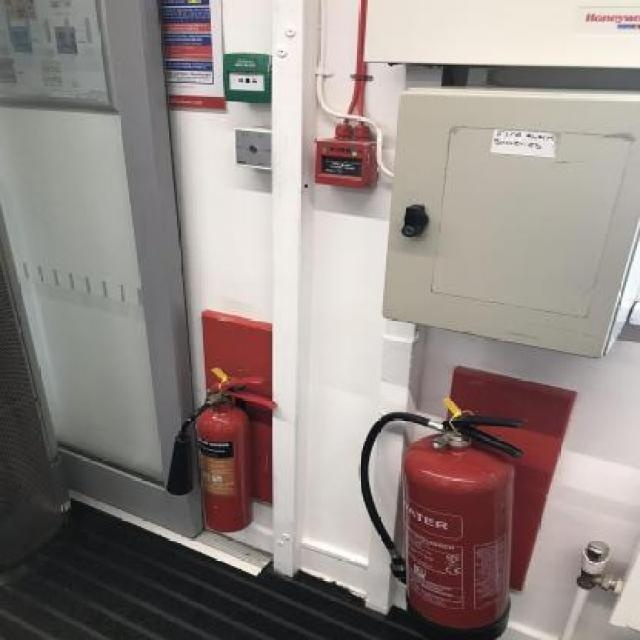fire extinguisher: (358, 411, 525, 629), (165, 377, 275, 534)
